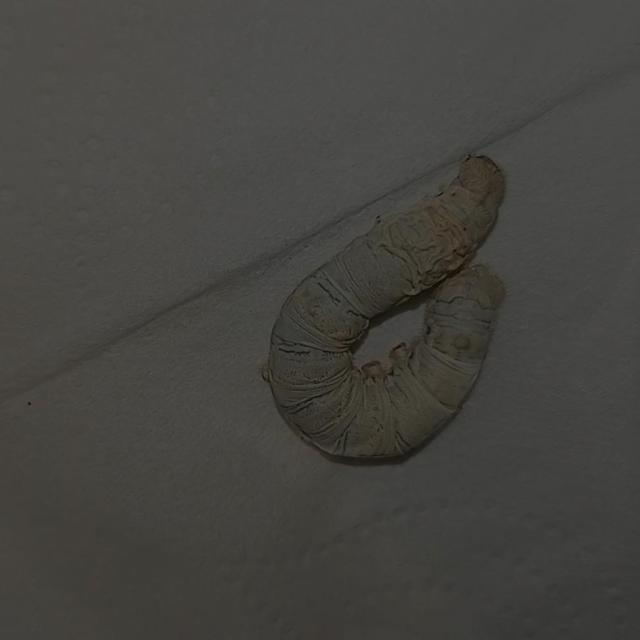Healthy: (241, 82, 527, 505)
